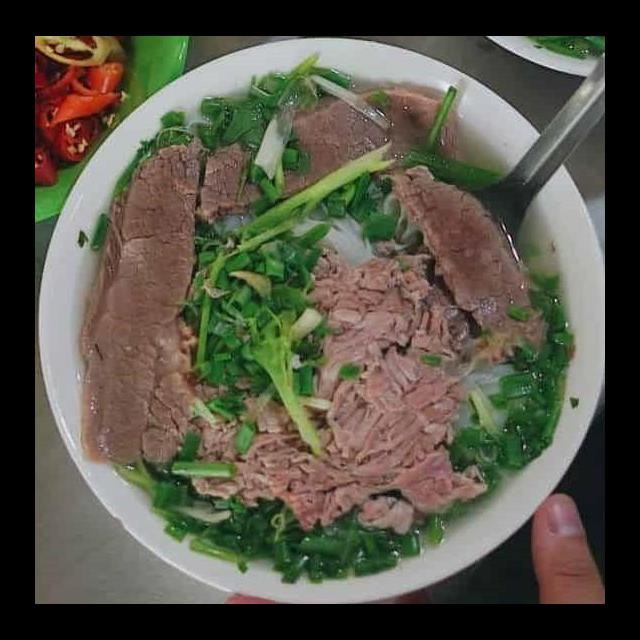thit bo: (296, 240, 498, 542), (177, 379, 492, 541), (71, 130, 217, 475), (372, 152, 558, 384), (187, 83, 446, 232)
